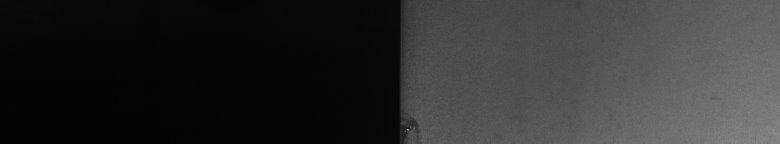hb: (408, 112, 428, 136)
